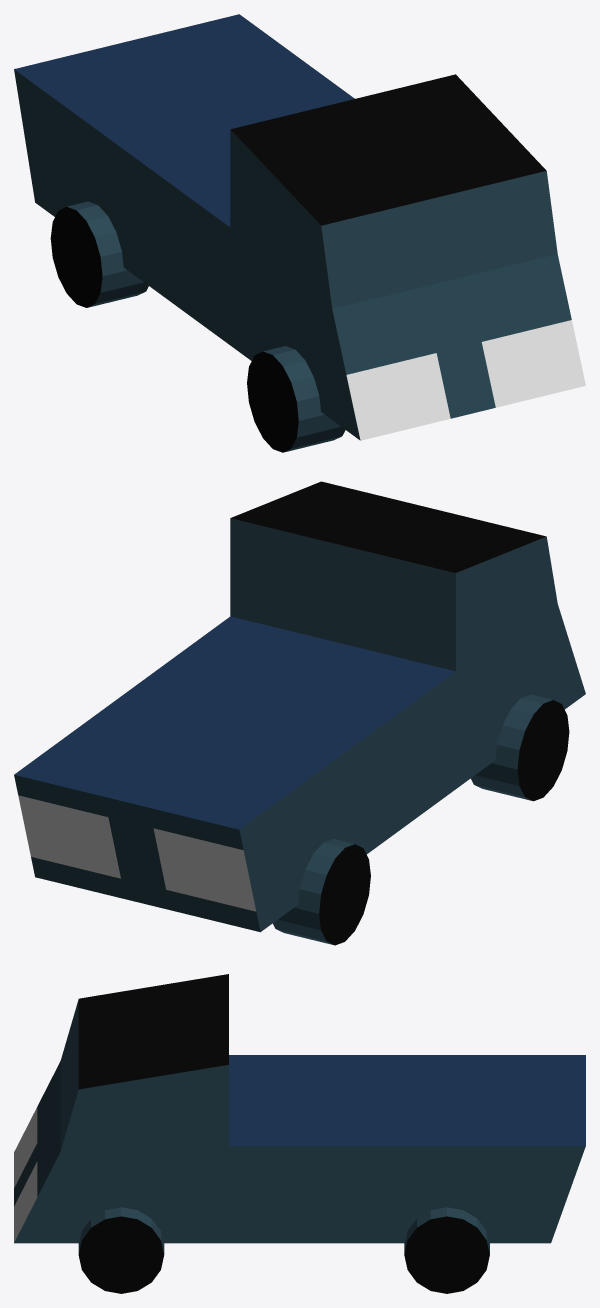
File: truck01.fbx
The picture shows the model from 3 angles, top to bottom: view 1: azimuth 30°, elevation 25°; view 2: azimuth 150°, elevation 25°; view 3: azimuth 270°, elevation 25°; orthographic projection. The views are drawn at different scales.
Visible parts, largest first — view 1: Cube; view 2: Cube; view 3: Cube.
Boxes of the visible parts, x1=… form: Cube: x1=14, y1=14, x2=585, y2=452; Cube: x1=14, y1=481, x2=585, y2=945; Cube: x1=14, y1=974, x2=585, y2=1293.
Size of the model in its own units: 240 by 226 by 532.
